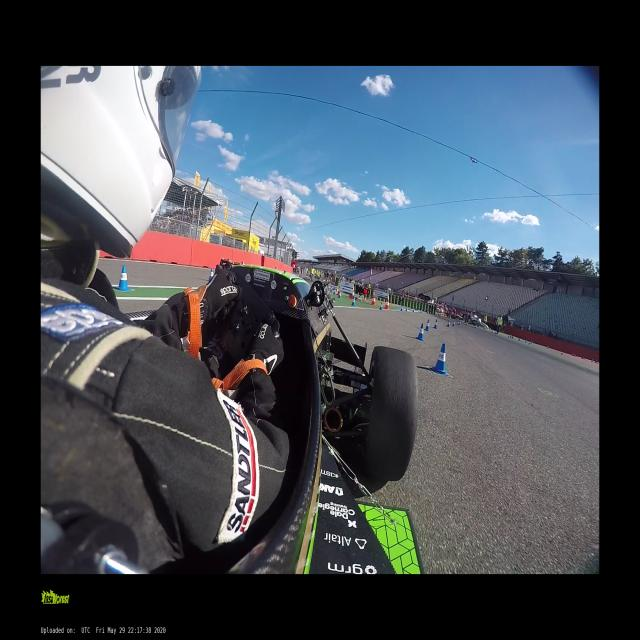blue_cone: (431, 342, 449, 376), (116, 265, 130, 292), (416, 323, 424, 341), (424, 319, 430, 331), (351, 296, 355, 307), (434, 319, 438, 329), (446, 320, 451, 328), (210, 268, 213, 280), (378, 302, 382, 310), (337, 291, 341, 298), (452, 321, 455, 326), (400, 307, 403, 311), (458, 321, 460, 326), (406, 308, 408, 312), (413, 308, 414, 312), (420, 309, 421, 313)
orange_cone: (385, 298, 389, 310), (372, 295, 376, 306)
